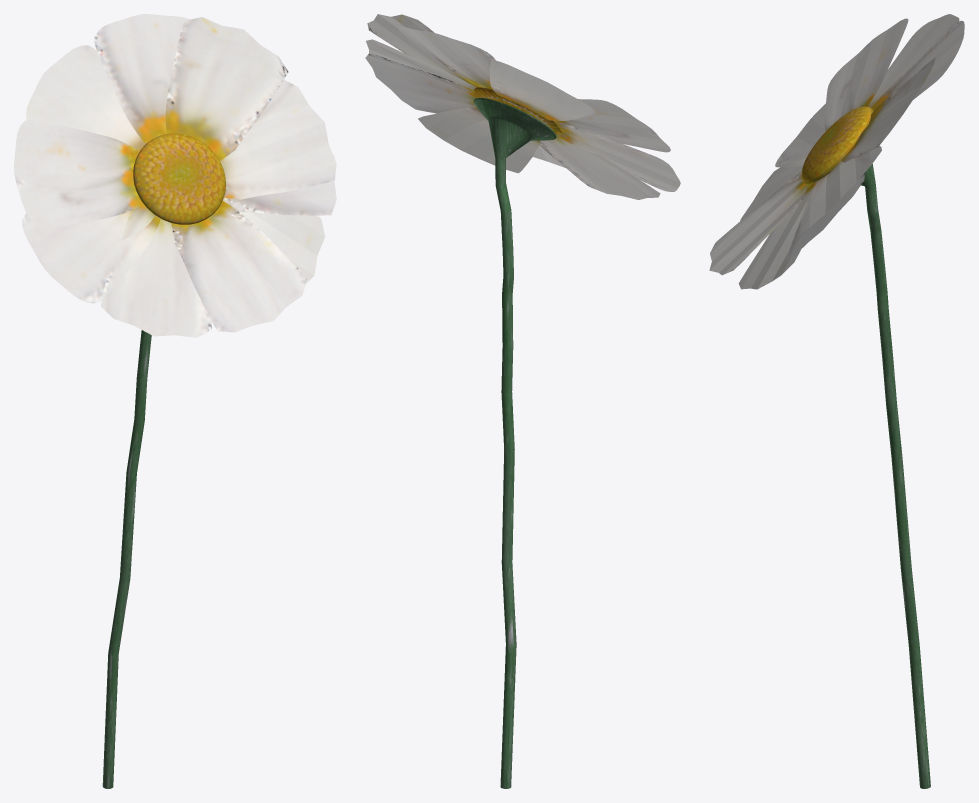
Rendered from flor.fbx.
3 views of the same model, side by side, from view 1: azimuth 30°, elevation 25°; view 2: azimuth 150°, elevation 25°; view 3: azimuth 270°, elevation 25° (orthographic). The views are drawn at different scales.
Parts seen in each view (by area): view 1: petalos, Centro, tallo; view 2: petalos, tallo, Centro; view 3: petalos, tallo, Centro.
Part boxes in pixels (x1,y1,x2,y2): petalos: (14, 14, 336, 337); Centro: (133, 133, 225, 224); tallo: (102, 330, 151, 788); petalos: (365, 14, 680, 199); tallo: (473, 98, 556, 788); Centro: (474, 86, 561, 133); petalos: (709, 14, 964, 289); tallo: (861, 164, 930, 788); Centro: (801, 106, 873, 184).
Size of the model in its own units: 393 by 929 by 277.
